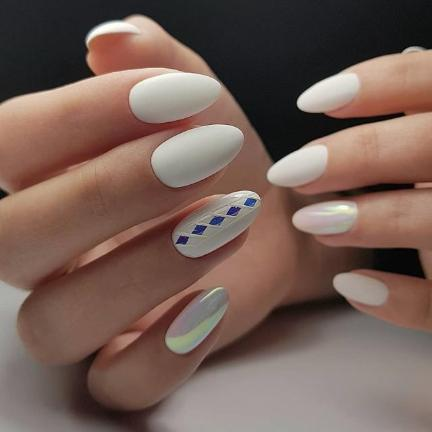Nail: (172, 190, 261, 259), (151, 124, 245, 188), (129, 72, 222, 124), (165, 286, 230, 354), (266, 144, 327, 187), (296, 72, 359, 113), (291, 200, 357, 235), (332, 273, 389, 306), (85, 20, 141, 49)
